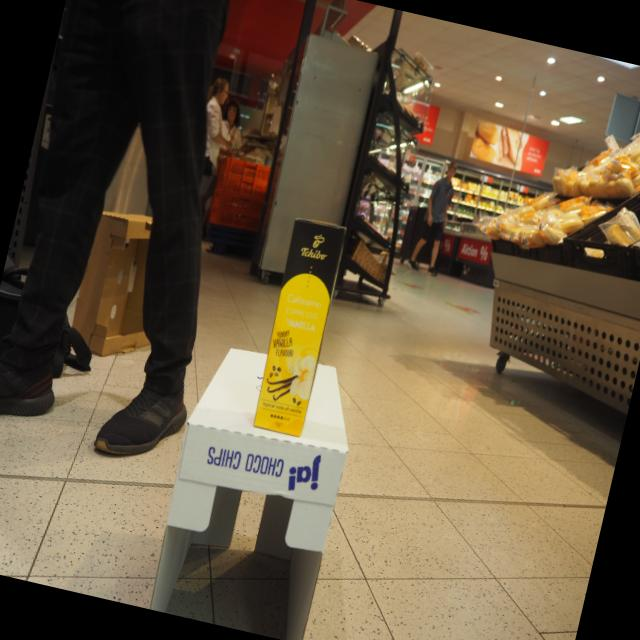Simo Es Vanilla: (251, 217, 348, 439)
